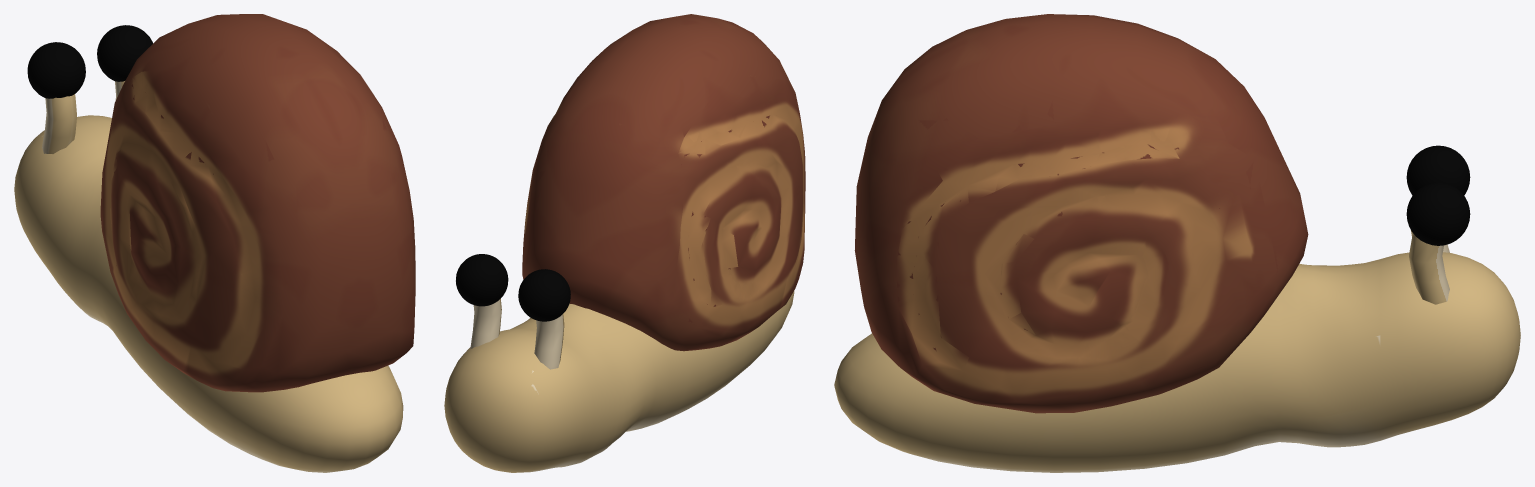
The model's file is LowPollySnail1.fbx.
The picture shows the model from 3 angles, left to right: view 1: azimuth 30°, elevation 25°; view 2: azimuth 150°, elevation 25°; view 3: azimuth 270°, elevation 25°; orthographic projection. The views are drawn at different scales.
Parts seen in each view (by area): view 1: Cube, Cube.001, Sphere.001, Sphere, Cube.003; view 2: Cube, Cube.001, Sphere.001, Sphere, Cube.003, Cube.002; view 3: Cube, Cube.001, Sphere, Sphere.001, Cube.002.
Boxes of the visible parts, x1,y1,x2,y2 form: Cube: [100, 14, 415, 392]; Cube.001: [14, 115, 403, 472]; Sphere.001: [27, 42, 85, 98]; Sphere: [97, 25, 152, 81]; Cube.003: [42, 94, 76, 153]; Cube: [522, 14, 805, 351]; Cube.001: [444, 291, 794, 472]; Sphere.001: [518, 269, 570, 321]; Sphere: [456, 254, 508, 306]; Cube.003: [534, 314, 564, 369]; Cube.002: [470, 298, 501, 349]; Cube: [854, 14, 1308, 413]; Cube.001: [834, 252, 1520, 472]; Sphere: [1406, 182, 1470, 245]; Sphere.001: [1406, 145, 1470, 195]; Cube.002: [1409, 233, 1449, 304].
Size of the model in its own units: 207 by 367 by 525.
